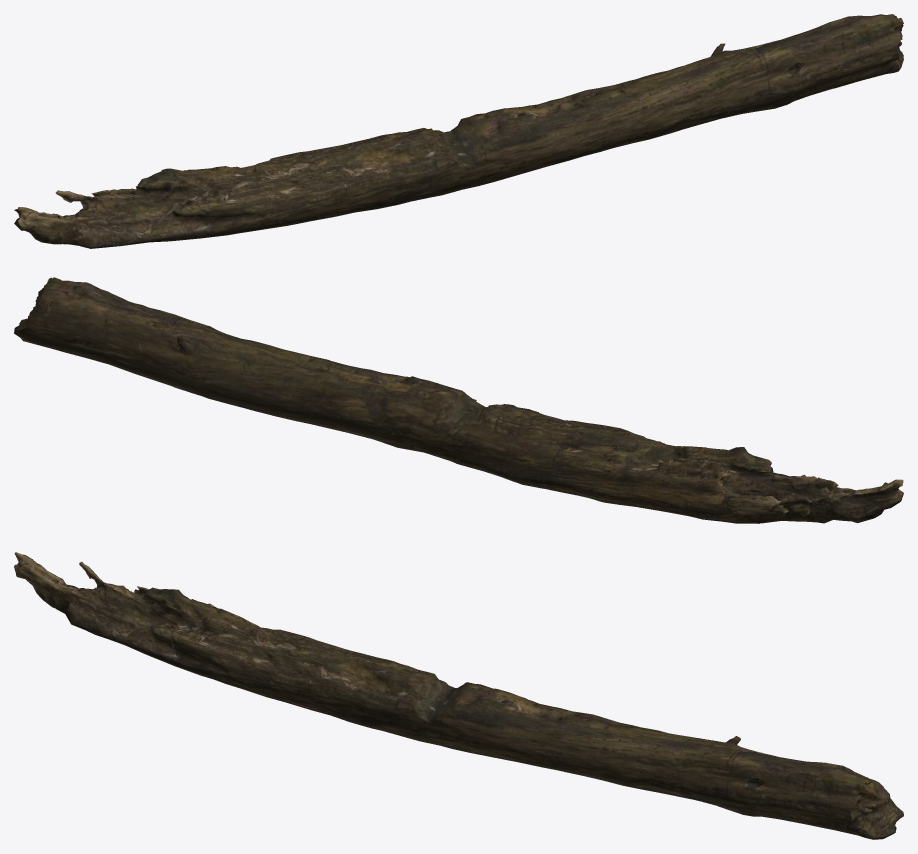
Rendered from dead_tree_trunk.glb.
3 views of the same model, one above another, from view 1: azimuth 30°, elevation 25°; view 2: azimuth 150°, elevation 25°; view 3: azimuth 330°, elevation 25° (orthographic).
Parts seen in each view (by area): view 1: dead_tree_trunk; view 2: dead_tree_trunk; view 3: dead_tree_trunk.
Part boxes in pixels (bbox=[...]): dead_tree_trunk: bbox=[14, 14, 903, 248]; dead_tree_trunk: bbox=[14, 277, 903, 523]; dead_tree_trunk: bbox=[14, 552, 903, 839].
Bounding box in the file's own units: 3.05 × 0.2893 × 0.2768.
Materials: 1 (1 with a texture image).
